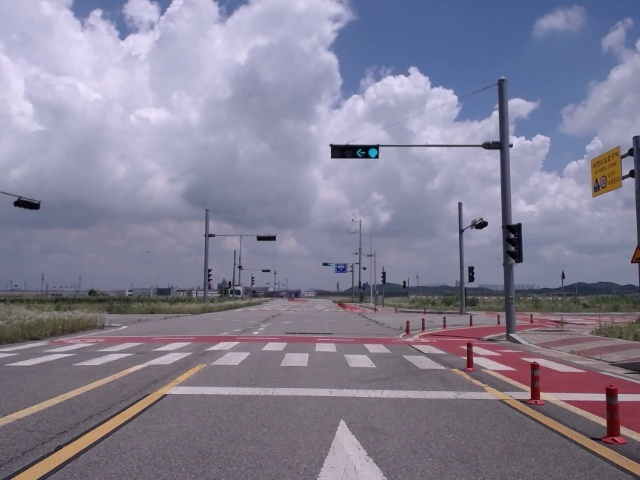all_green_4: (331, 144, 383, 161)
